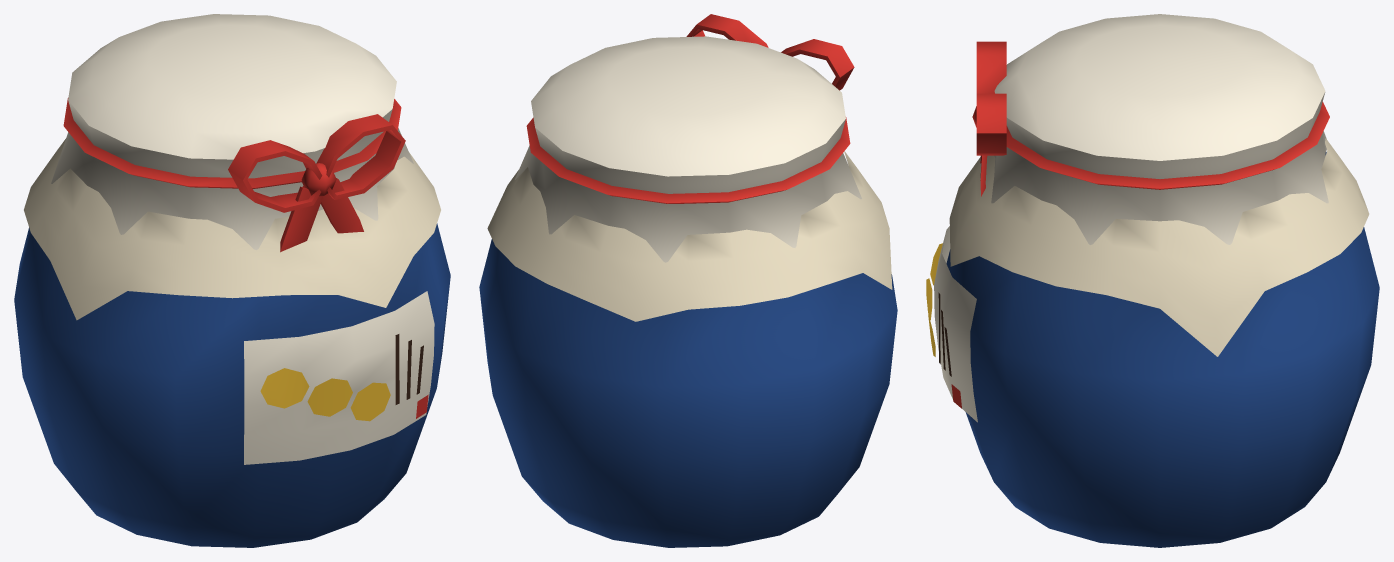
File: gift-radish.glb
3 renders of one model, left to right at view 1: azimuth 30°, elevation 25°; view 2: azimuth 150°, elevation 25°; view 3: azimuth 270°, elevation 25°, orthographic. The views are drawn at different scales.
Visible parts, largest first — view 1: Gift radish Washi, Gift radish Indigo glaze, Gift radish Cream glaze, Gift radish Ribbon; view 2: Gift radish Indigo glaze, Gift radish Washi, Gift radish Cream glaze, Gift radish Ribbon; view 3: Gift radish Indigo glaze, Gift radish Washi, Gift radish Cream glaze, Gift radish Ribbon.
Boxes of the visible parts, left/top/right/bottom form: Gift radish Washi: left=51, top=14, right=434, bottom=464; Gift radish Indigo glaze: left=14, top=223, right=450, bottom=547; Gift radish Cream glaze: left=24, top=139, right=440, bottom=320; Gift radish Ribbon: left=63, top=98, right=405, bottom=252; Gift radish Indigo glaze: left=479, top=239, right=897, bottom=547; Gift radish Washi: left=515, top=36, right=861, bottom=262; Gift radish Cream glaze: left=487, top=151, right=892, bottom=321; Gift radish Ribbon: left=526, top=14, right=854, bottom=203; Gift radish Indigo glaze: left=946, top=152, right=1379, bottom=547; Gift radish Washi: left=926, top=14, right=1328, bottom=422; Gift radish Cream glaze: left=949, top=138, right=1369, bottom=356; Gift radish Ribbon: left=972, top=41, right=1329, bottom=196.
Bounding box in the file's own units: 0.1771 × 0.1892 × 0.1828.
